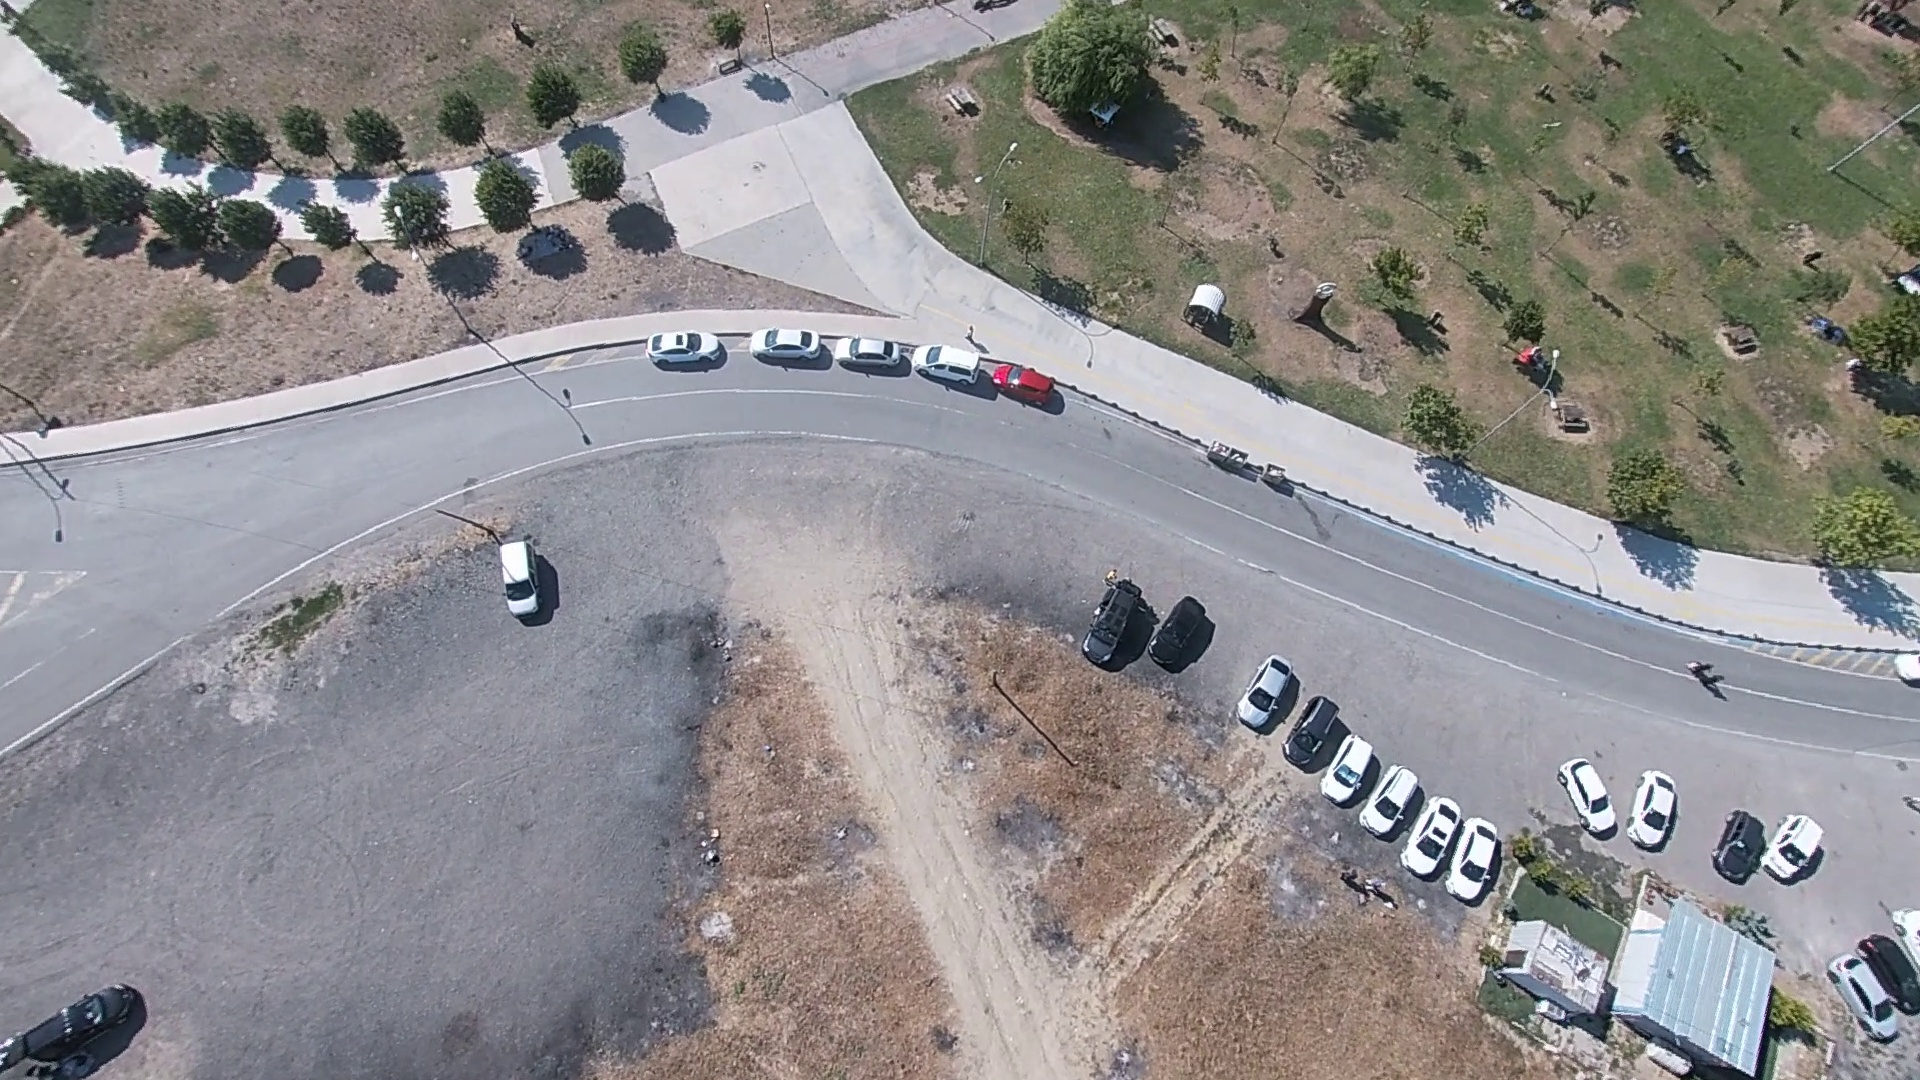arac: (11, 972, 146, 1079), (1836, 934, 1909, 1038), (1443, 810, 1520, 905), (1396, 796, 1466, 885), (1360, 757, 1429, 837), (1280, 691, 1345, 770), (1722, 806, 1789, 881), (1563, 757, 1625, 837), (1244, 653, 1303, 736), (1630, 767, 1688, 852), (978, 356, 1062, 410), (1083, 579, 1142, 653), (497, 535, 550, 617), (1772, 808, 1833, 874), (1159, 589, 1204, 676), (910, 338, 986, 388), (1323, 742, 1371, 818), (753, 320, 829, 365), (645, 327, 725, 368)
